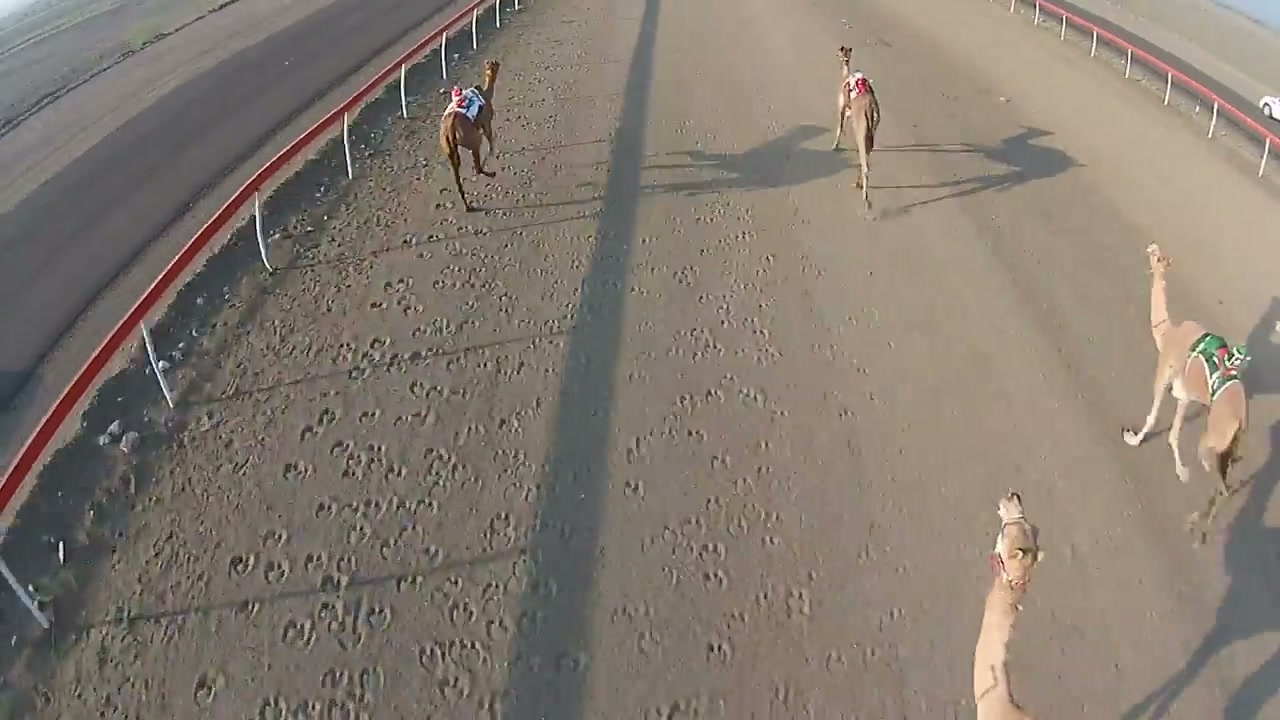animal_footprint: (189, 204, 529, 713)
